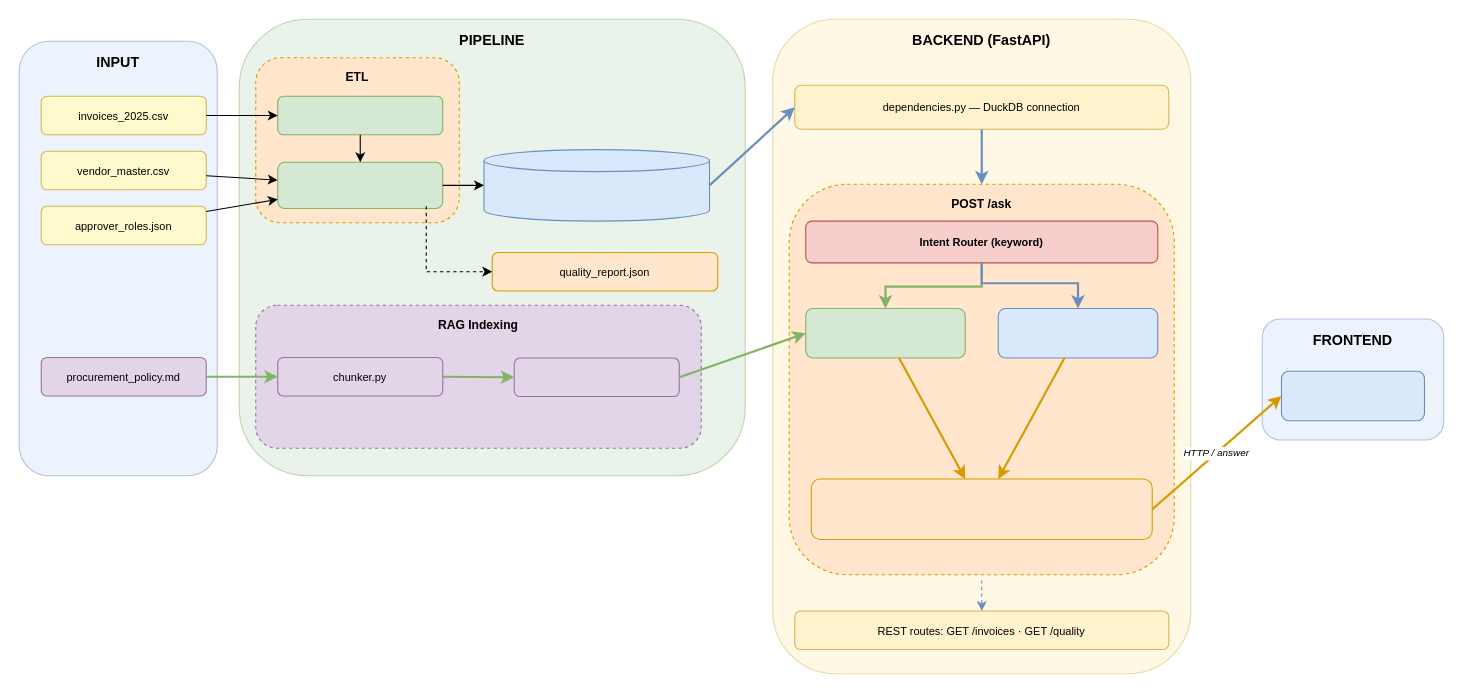
Image size: 1463x693. Some labels were removed from this diagram. Each missing label, with the centre of its shape:
"cleaners.py" belongs at (x=360, y=115).
"embedder.py — TF-IDF" belongs at (x=596, y=377).
"frontend/src — UI" belongs at (x=1352, y=395).
"LiteLLM (configurable) self-hosted proxy" belongs at (x=981, y=509).
"pipeline.py LEFT JOIN + rules" belongs at (x=360, y=184).
"rag/retriever TF-IDF" belongs at (x=885, y=332).
"spend_intelligence.duckdb audit trail (pipeline_log)" belongs at (x=596, y=184).
"sql_agent NL → SQL" belongs at (x=1077, y=332).
